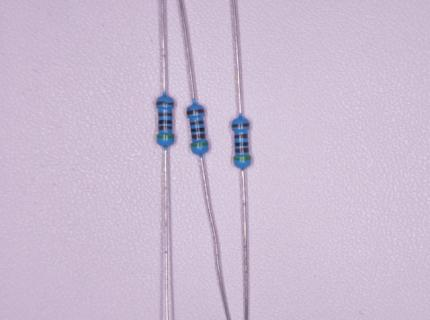Black band: (191, 127, 204, 132), (158, 120, 172, 124), (235, 142, 248, 146)
Brown band: (187, 109, 204, 114), (232, 122, 249, 127), (190, 120, 204, 126), (191, 134, 205, 139), (234, 134, 248, 139), (235, 148, 249, 153), (157, 101, 173, 105), (159, 113, 172, 117), (159, 126, 172, 130)
Green band: (191, 142, 208, 147), (233, 157, 250, 161), (157, 135, 173, 138)
